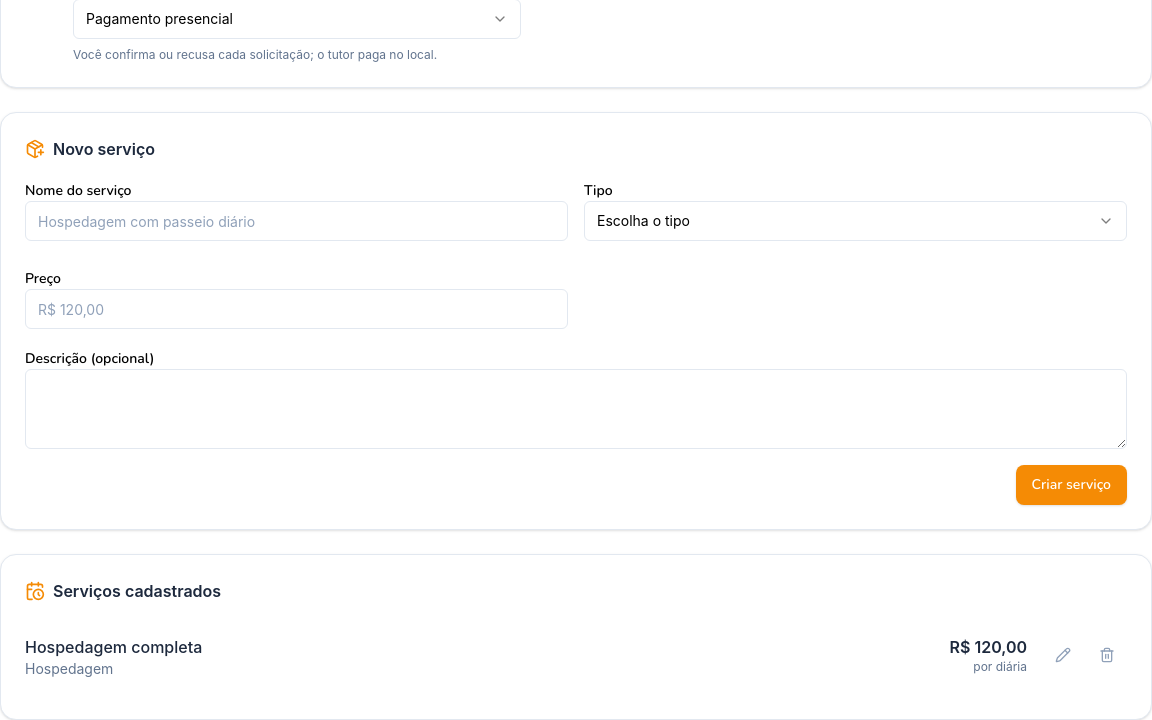
Test: cancelar edição limpa o formulário e volta ao modo de criação
The image size is (1152, 720).
(page scrolled)
Expected: the text "Hospedagem completa" is shown, [25,635,202,659]
Click the button named "Editar Hospedagem completa" at [1063, 655], box [1043,635,1083,675]
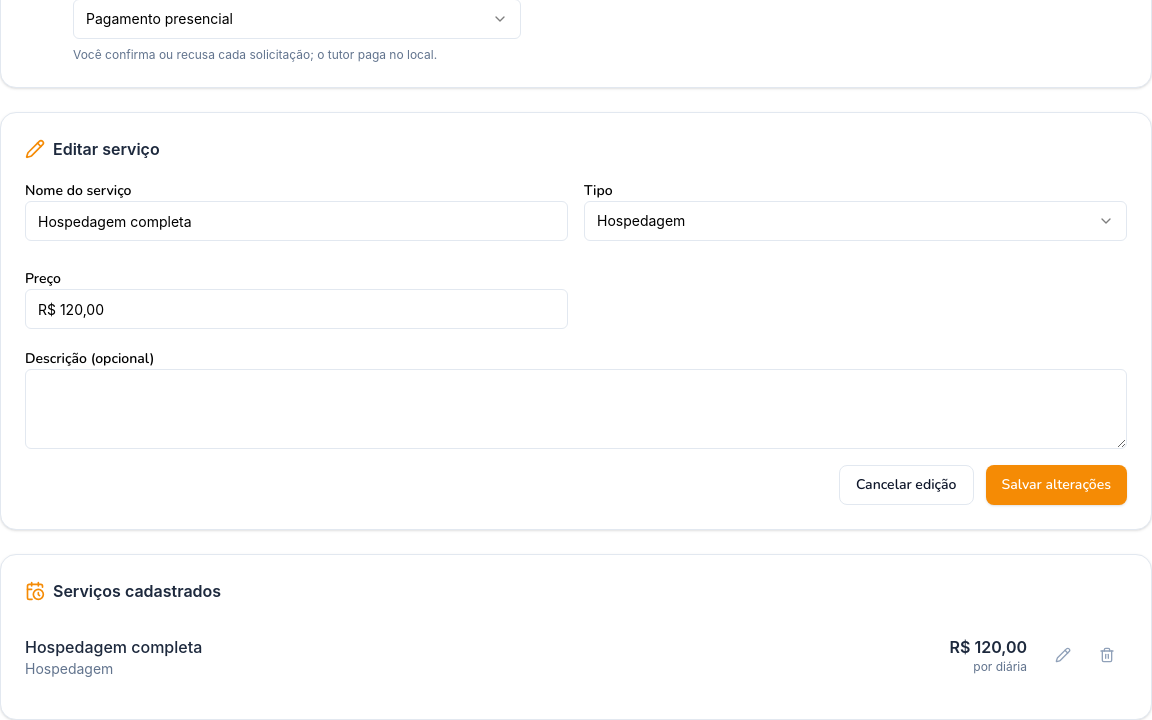
Result: the heading "Editar serviço" is shown at [25,139,160,159]
Click the button "Cancelar edição" at [906, 485], box [839,465,974,505]
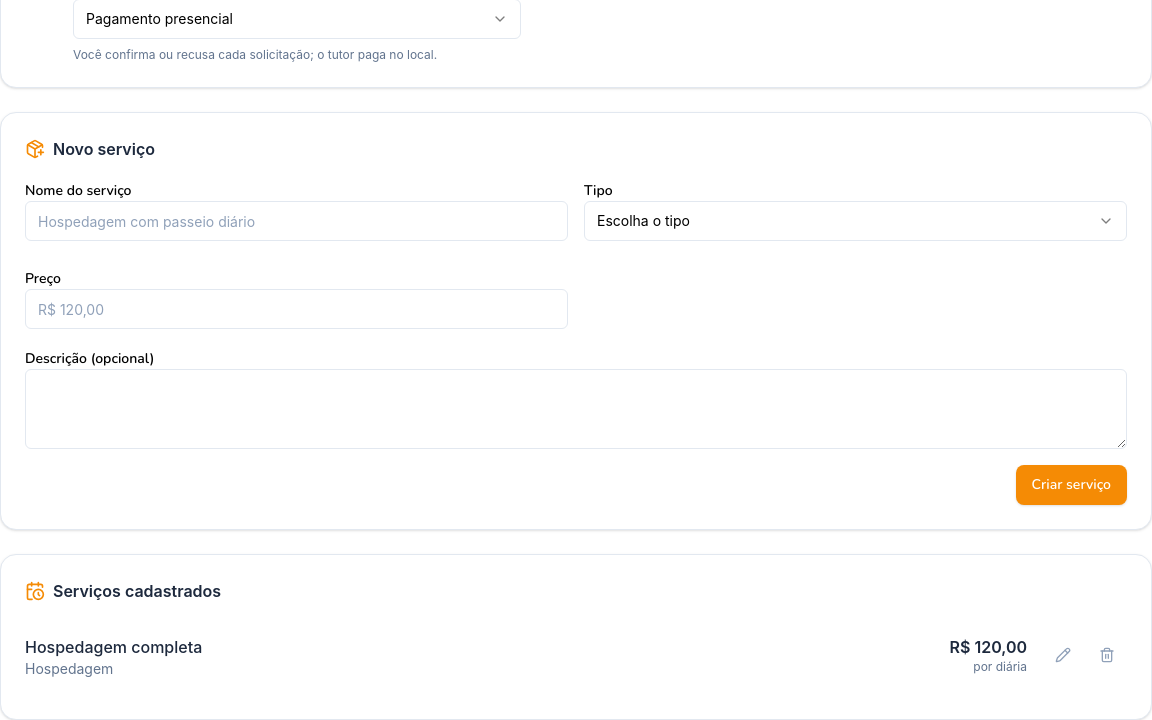
Result: the heading "Novo serviço" is shown at [25,139,155,159]
Result: the field labelled "Nome do serviço" is empty at [25,201,568,241]
